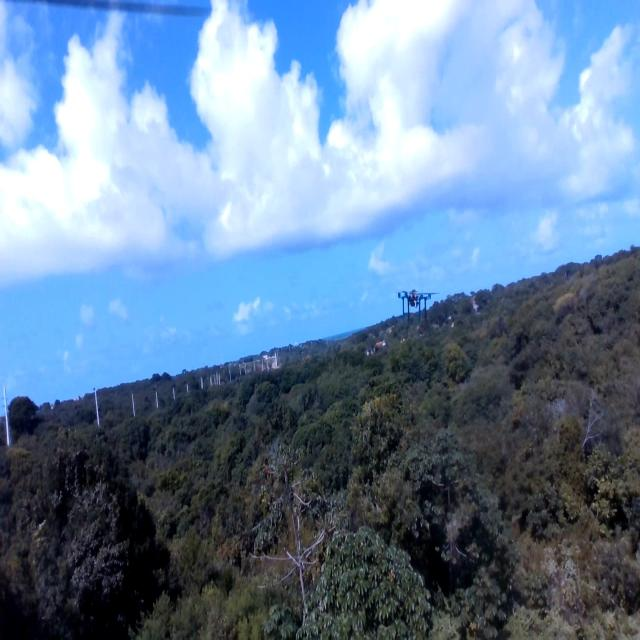-uav-: (392, 275, 440, 332)
